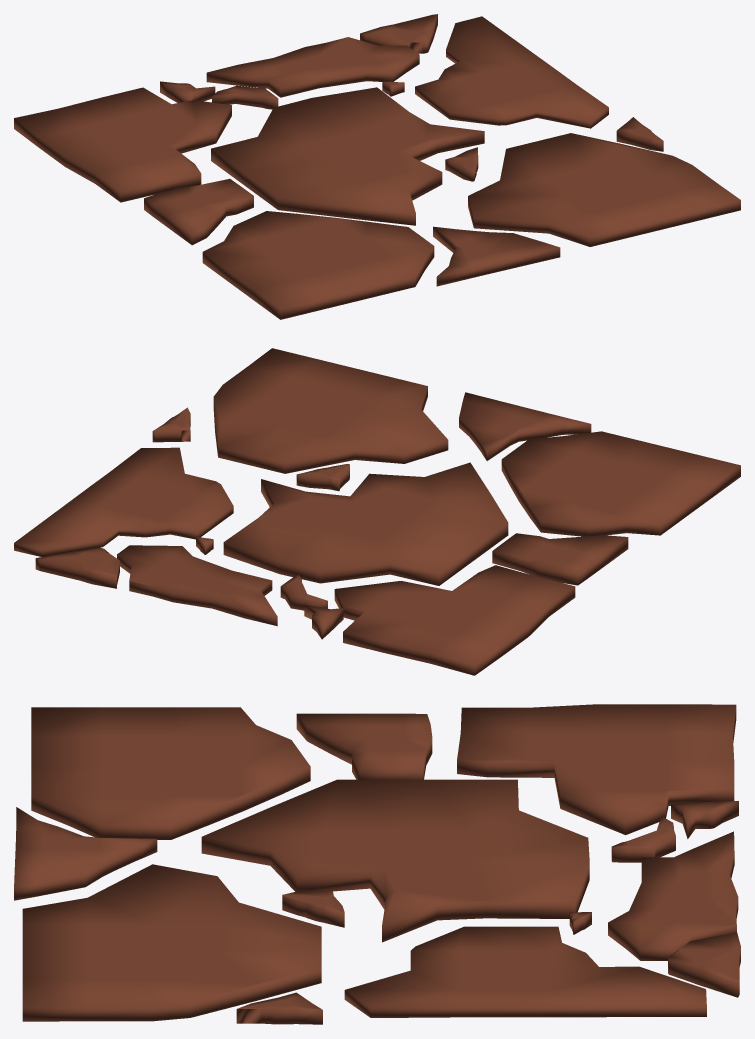
File: breakableFloor.obj
3 renders of one model, top to bottom at view 1: azimuth 30°, elevation 25°; view 2: azimuth 150°, elevation 25°; view 3: azimuth 270°, elevation 25°, orthographic. The views are drawn at different scales.
Visible parts, largest first — view 1: 立方体.002; view 2: 立方体.002; view 3: 立方体.002.
Part boxes in pixels (left/top/right/bottom): 立方体.002: left=14, top=14, right=740, bottom=319; 立方体.002: left=14, top=348, right=740, bottom=675; 立方体.002: left=14, top=704, right=740, bottom=1024.
Bounding box in the file's own units: 1.95 × 0.0495 × 1.96.
1 material, 1 textured.
